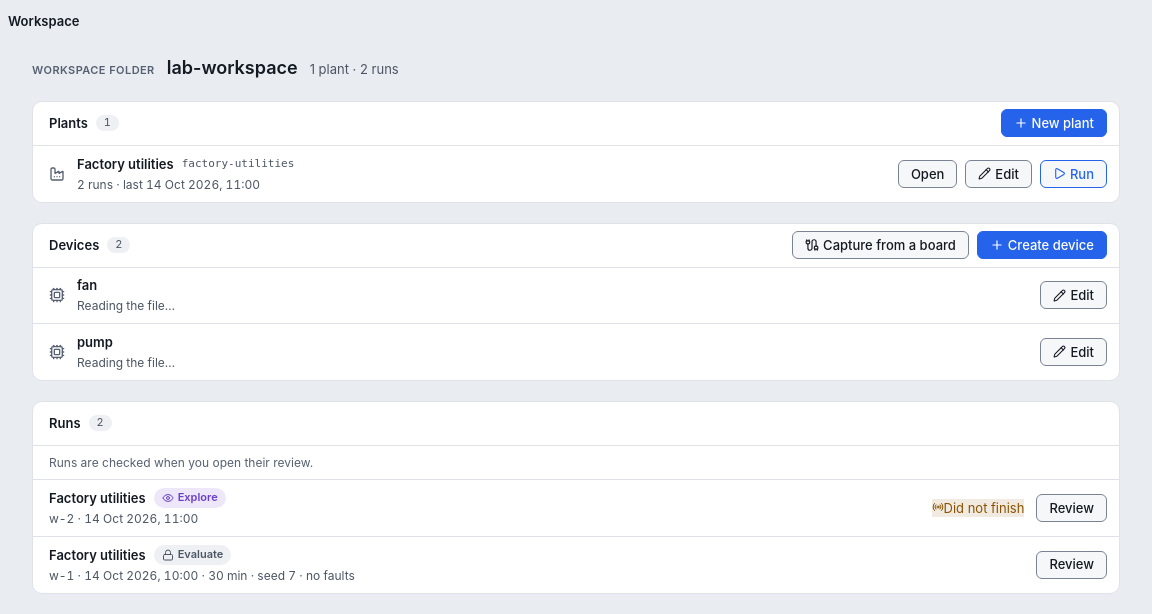
Test: creating a device › says why the device could not be created
Click the button "Create device".
click(1042, 245)  # box [977,231,1107,259]
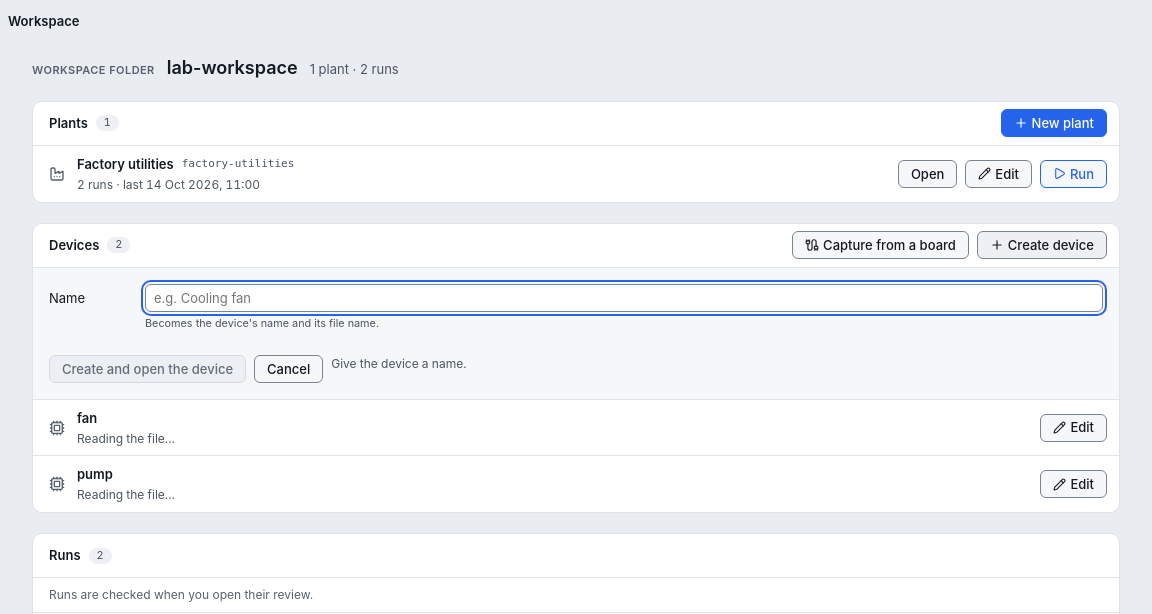
Type "heater" into the field labelled "Name".
click(624, 298); type("heater")  # box [145,284,1103,312]
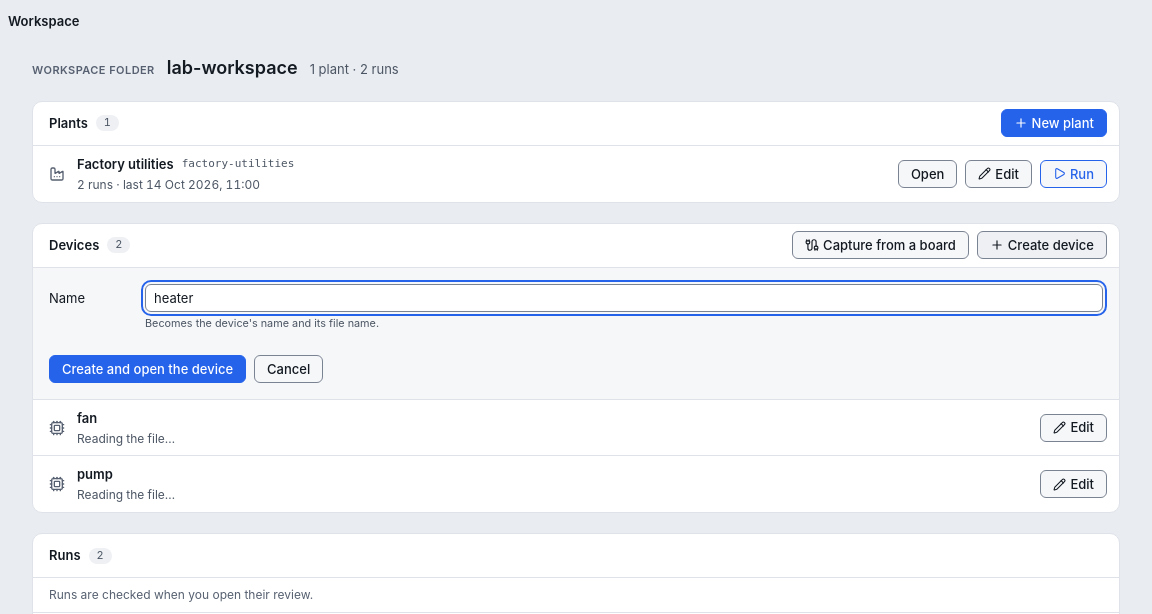
Submit the form named "New device", box [33,268,1119,400]
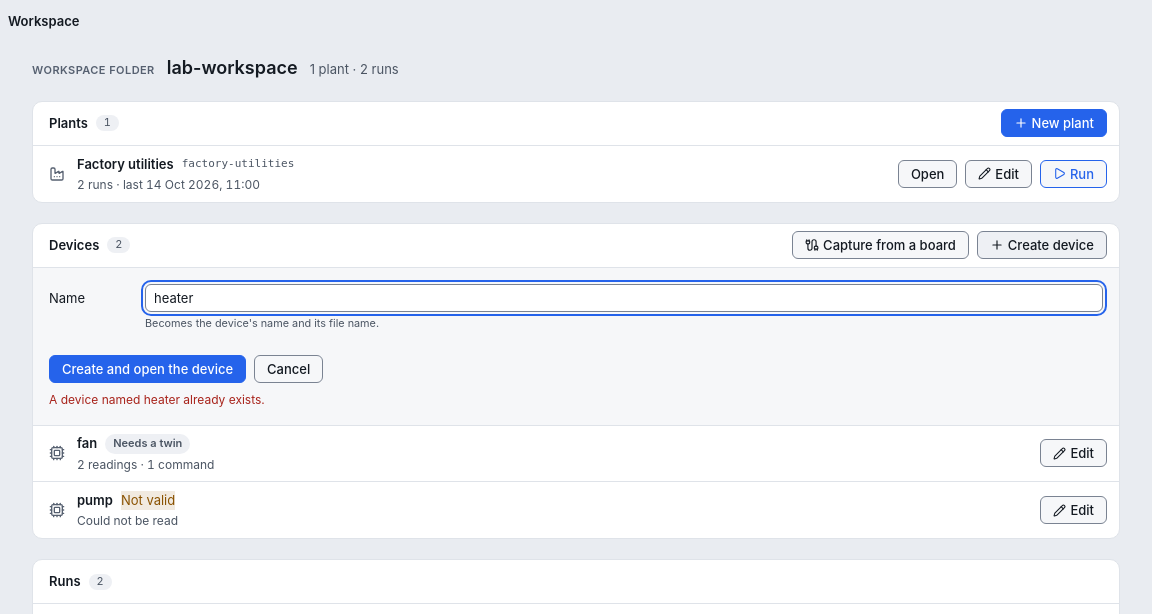
Expected: the message reads "A device named heater already exists.", [49,392,265,407]
